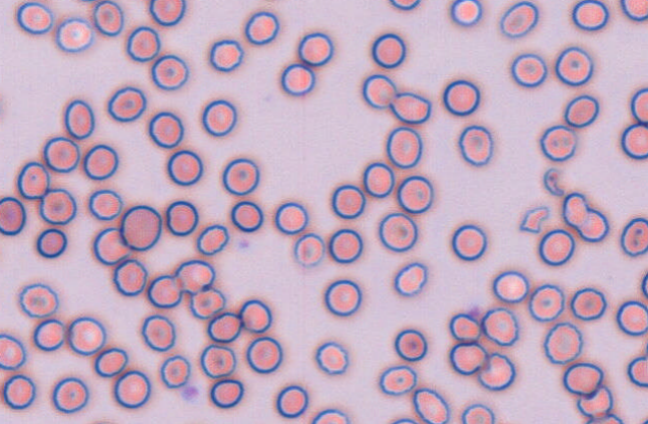PLT: (237, 237, 254, 253), (183, 385, 201, 400)
RBC: (120, 204, 162, 251), (543, 321, 583, 364), (378, 211, 417, 252), (480, 306, 519, 346), (554, 46, 593, 86), (385, 126, 422, 168), (67, 316, 106, 355), (457, 124, 493, 166), (92, 227, 130, 265), (477, 352, 515, 390), (113, 370, 151, 408), (221, 157, 259, 195), (499, 0, 538, 37), (107, 85, 146, 122), (18, 282, 58, 318), (538, 228, 575, 266), (528, 283, 565, 321), (38, 188, 76, 225), (396, 175, 433, 213), (323, 279, 361, 316), (539, 124, 577, 161), (442, 79, 480, 116), (55, 16, 94, 52), (389, 91, 431, 124), (245, 336, 282, 373), (175, 259, 215, 293), (562, 362, 603, 395), (412, 387, 449, 423), (52, 376, 88, 413), (43, 136, 80, 172), (166, 149, 203, 185), (201, 99, 237, 136), (148, 111, 184, 148), (151, 54, 188, 90), (451, 223, 487, 260), (112, 258, 147, 296), (199, 343, 236, 378), (140, 314, 175, 351), (83, 143, 118, 180), (510, 52, 547, 87), (448, 341, 486, 375), (371, 32, 406, 68), (570, 286, 607, 320), (126, 25, 160, 62), (16, 161, 49, 199), (63, 99, 94, 139), (328, 228, 363, 263), (330, 184, 365, 219), (297, 32, 333, 66), (492, 270, 529, 303), (16, 1, 53, 34), (147, 274, 182, 308), (238, 298, 272, 333), (362, 73, 396, 108), (393, 261, 427, 296), (314, 340, 348, 375), (244, 11, 279, 45), (564, 94, 599, 128), (615, 300, 648, 336), (165, 200, 198, 236), (378, 364, 416, 395), (209, 38, 243, 72), (576, 207, 609, 242), (2, 374, 35, 409), (280, 63, 315, 96), (189, 287, 225, 319), (362, 161, 394, 197), (92, 0, 124, 36), (620, 216, 648, 257), (571, 0, 609, 30), (275, 384, 308, 418), (393, 328, 427, 361), (274, 201, 308, 234), (293, 232, 325, 267), (207, 311, 241, 343), (88, 188, 122, 220), (33, 318, 65, 351), (196, 223, 229, 255), (230, 200, 263, 232), (159, 354, 190, 388), (209, 378, 244, 408), (94, 347, 128, 377), (0, 196, 26, 235), (448, 312, 481, 342), (561, 191, 588, 227), (620, 123, 647, 159), (0, 333, 26, 370), (148, 0, 185, 26), (36, 227, 67, 258), (450, 0, 482, 26), (460, 403, 495, 423), (630, 87, 647, 124), (627, 356, 647, 387), (310, 408, 350, 423), (620, 0, 648, 21), (584, 413, 624, 423), (388, 0, 421, 10), (640, 270, 648, 299), (388, 417, 418, 423), (84, 419, 118, 424), (0, 90, 4, 125), (644, 336, 648, 358), (74, 0, 101, 2)
Schistocyte: (578, 387, 613, 417), (521, 205, 552, 233), (545, 167, 565, 198)
